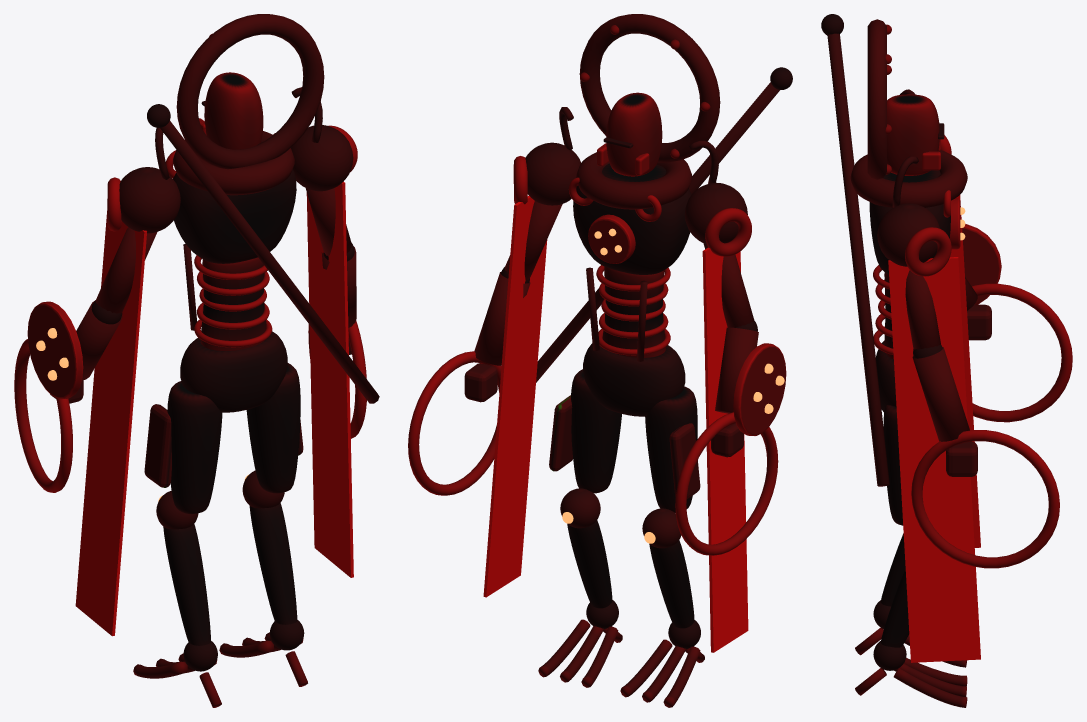
The model's file is mf_black_witch.glb.
3 views of the same model, side by side, from view 1: azimuth 30°, elevation 25°; view 2: azimuth 150°, elevation 25°; view 3: azimuth 270°, elevation 25° (orthographic). The views are drawn at different scales.
Visible parts, largest first — view 1: cloth_l, cloth_r, halo, chest, hips, thigh_l, thigh_r, staff, helmet, shield, shin_r, shin_l (+23 smaller); view 2: cloth_r, cloth_l, halo, chest, hips, thigh_r, ring_l, collar, helmet, shield, thigh_l, ring_r (+29 smaller); view 3: cloth_r, staff, ring_r, helmet, collar, halo, ring_l, fore_r, shoulder_r, upper_r, shield, cloth_l (+15 smaller).
Boxes of the visible parts, <box> form: cloth_l: <box>75,211,146,636</box>; cloth_r: <box>306,181,353,577</box>; halo: <box>176,14,324,169</box>; chest: <box>173,169,296,263</box>; hips: <box>180,331,287,412</box>; thigh_l: <box>167,381,222,514</box>; thigh_r: <box>246,363,300,493</box>; staff: <box>160,120,379,403</box>; helmet: <box>204,72,263,149</box>; shield: <box>27,301,83,399</box>; shin_r: <box>249,503,297,624</box>; shin_l: <box>163,524,210,645</box>; cloth_r: <box>483,195,547,597</box>; cloth_l: <box>702,247,748,652</box>; halo: <box>579,14,720,162</box>; chest: <box>573,163,691,274</box>; hips: <box>583,343,685,416</box>; thigh_r: <box>571,369,621,493</box>; ring_l: <box>675,412,778,555</box>; collar: <box>576,152,692,209</box>; helmet: <box>606,92,662,176</box>; shield: <box>733,343,786,435</box>; thigh_l: <box>645,386,697,512</box>; ring_r: <box>408,351,501,495</box>; cloth_r: <box>888,257,980,662</box>; staff: <box>827,33,889,486</box>; ring_r: <box>911,430,1059,568</box>; helmet: <box>887,94,939,175</box>; collar: <box>850,150,967,207</box>; halo: <box>867,19,886,179</box>; ring_l: <box>972,283,1072,422</box>; fore_r: <box>912,347,969,441</box>; shoulder_r: <box>877,203,939,266</box>; upper_r: <box>905,270,940,349</box>; shield: <box>962,224,1001,304</box>; cloth_l: <box>950,195,980,547</box>.
Bounding box in the file's own units: 0.5685 × 1.12 × 0.3947.
